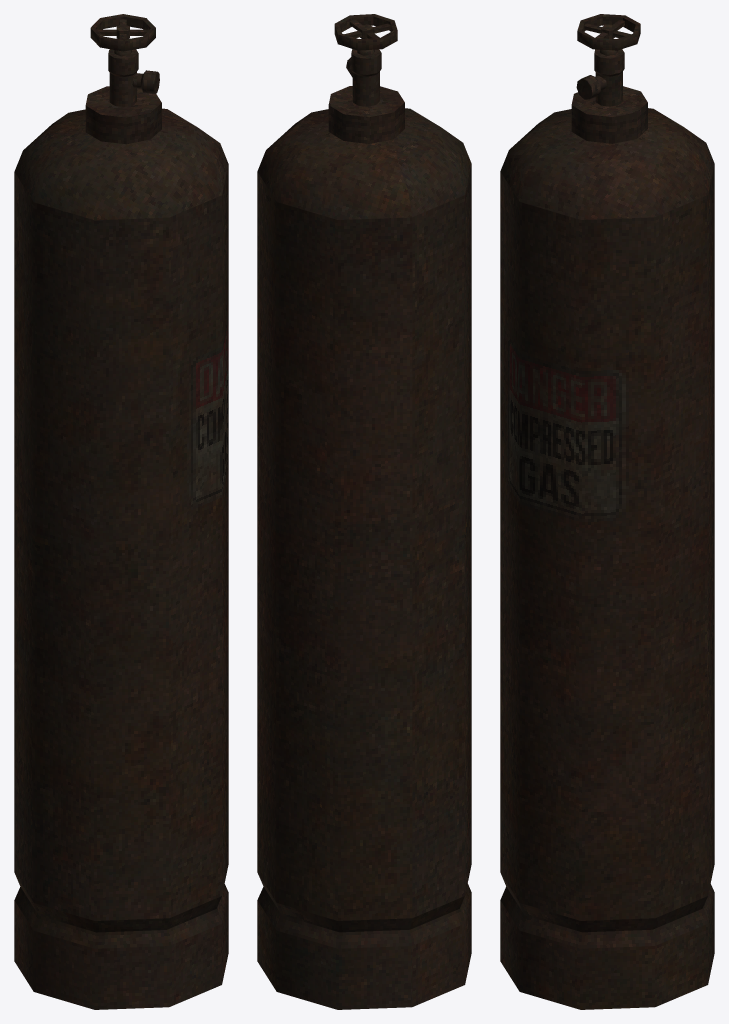
File: gas_cylinder_mx_1.glb
3 views of the same model, side by side, from view 1: azimuth 30°, elevation 25°; view 2: azimuth 150°, elevation 25°; view 3: azimuth 270°, elevation 25° (orthographic).
Parts seen in each view (by area): view 1: gas_cylinder_mx_1; view 2: gas_cylinder_mx_1; view 3: gas_cylinder_mx_1.
Part boxes in pixels (x1,y1,x2,y2): gas_cylinder_mx_1: [14, 14, 228, 1009]; gas_cylinder_mx_1: [257, 14, 471, 1009]; gas_cylinder_mx_1: [500, 14, 714, 1009].
Bounding box in the file's own units: 0.3278 × 1.58 × 0.3278.
Materials: 1 (1 with a texture image).
